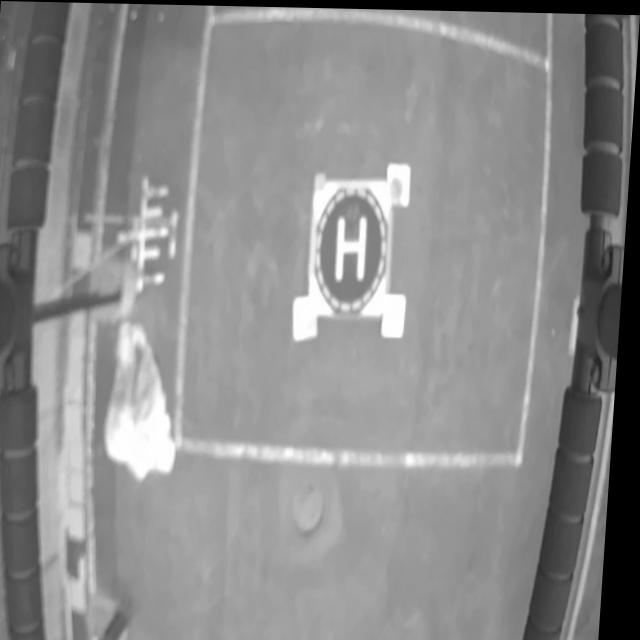Helipad: (336, 209, 370, 280)
